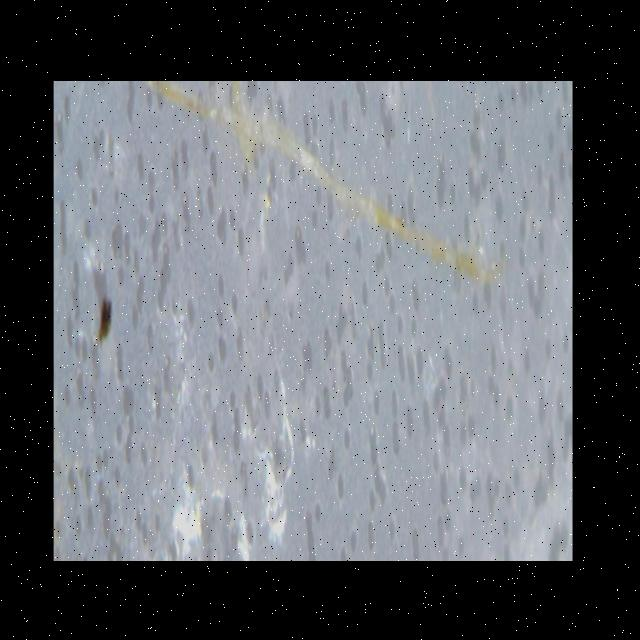Fibre: (84, 80, 512, 306)
